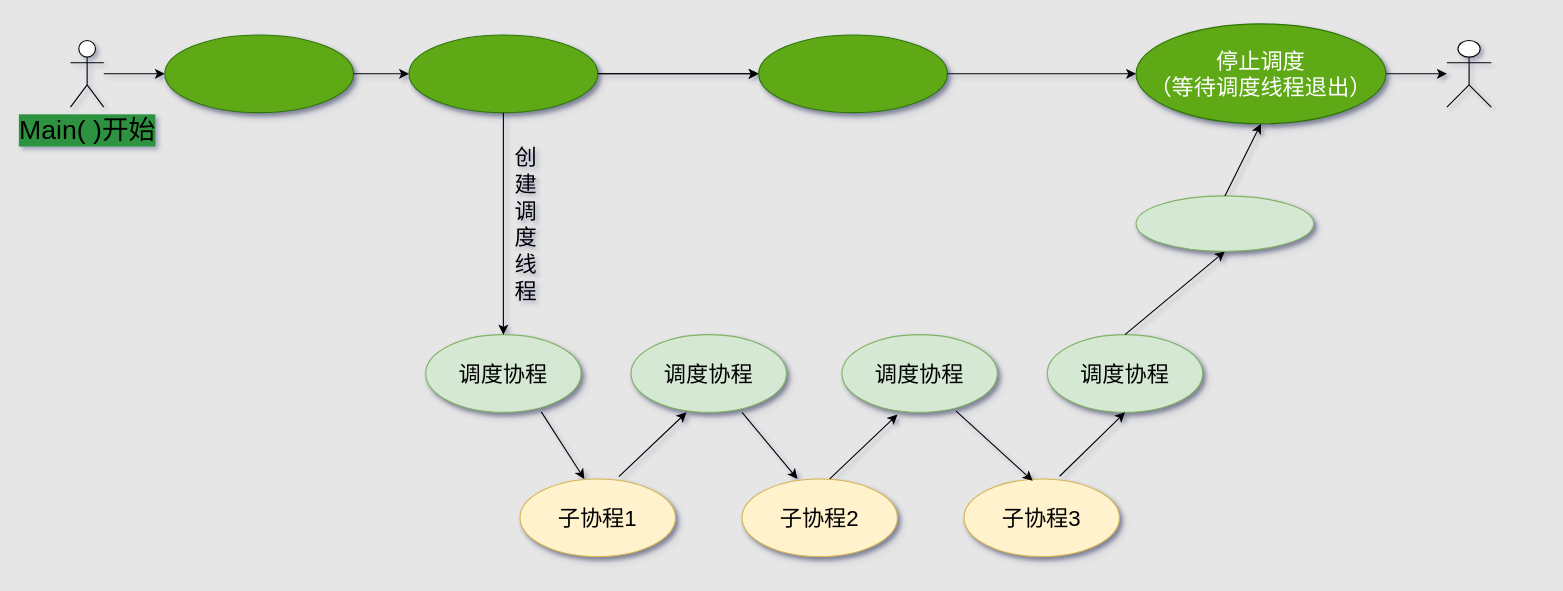
This 1563x591 diagram has some shape labels left out. Here are the shapes that lost their labels. From the top down, the centre of each, then its label:
pixel 259 74: 创建调度器
pixel 503 74: 开始调度
pixel 853 74: 添加调度任务
pixel 1468 73: Main( )结束
pixel 1225 224: 调度线程结束
